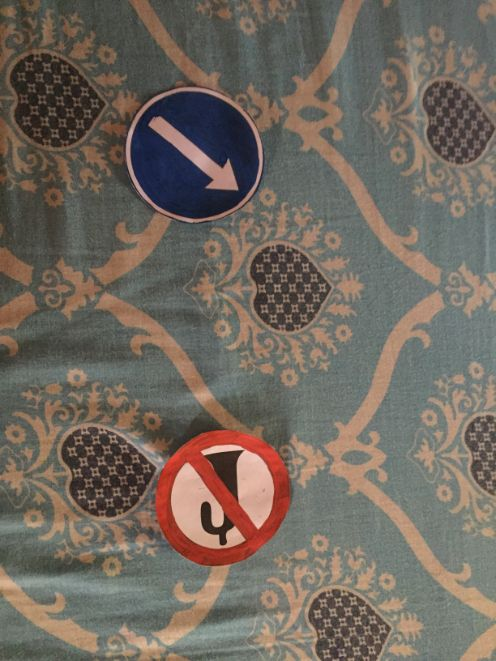go-stright: (126, 85, 269, 224)
no-horn: (156, 431, 294, 568)
